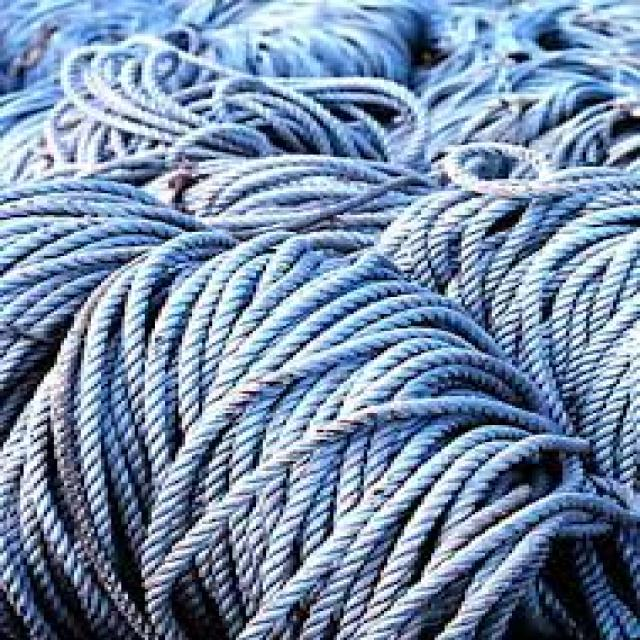rope: (5, 232, 628, 639), (382, 168, 636, 484), (2, 179, 206, 431), (47, 36, 425, 170), (417, 1, 638, 167), (183, 155, 432, 238)
